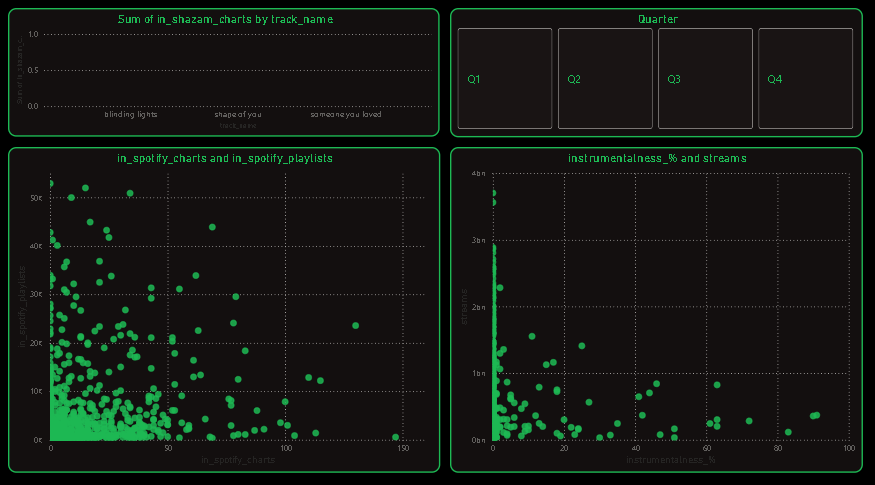

Layout of this report page (visuals, bound fields, positions):
{"tool":"powerbi","page":{"name":"Page 5","canvas":[1280,720],"ordinal":4},"visuals":[{"type":"scatterChart","fields":{"Y":["spotify-2023.in_spotify_playlists"],"X":["spotify-2023.in_spotify_charts"]},"box":[16.2,213.6,624.5,471.3],"z":0},{"type":"advancedSlicerVisual","fields":{"Values":["spotify-2023.Quarter"]},"box":[655.5,86.9,596.5,111.9],"z":1000},{"type":"scatterChart","fields":{"X":["spotify-2023.instrumentalness_%"],"Y":["spotify-2023.streams"]},"box":[655.5,213.6,596.5,471.3],"z":2000},{"type":"columnChart","fields":{"Category":["spotify-2023.track_name"],"Y":["Sum(spotify-2023.in_shazam_charts)"]},"box":[16.4,12.8,624.5,186.2],"z":3000}]}

Visuals, with their boxes in screenshot pixels (x1, y1, x2, y2), scaled from the page's 1280x720 canvas onto the 875x485 screenshot:
scatterChart - spotify-2023.in_spotify_playlists x spotify-2023.in_spotify_charts: [left=11, top=144, right=438, bottom=461]
advancedSlicerVisual - spotify-2023.Quarter: [left=448, top=59, right=856, bottom=134]
scatterChart - spotify-2023.instrumentalness_% x spotify-2023.streams: [left=448, top=144, right=856, bottom=461]
columnChart - spotify-2023.track_name x Sum(spotify-2023.in_shazam_charts): [left=11, top=9, right=438, bottom=134]
